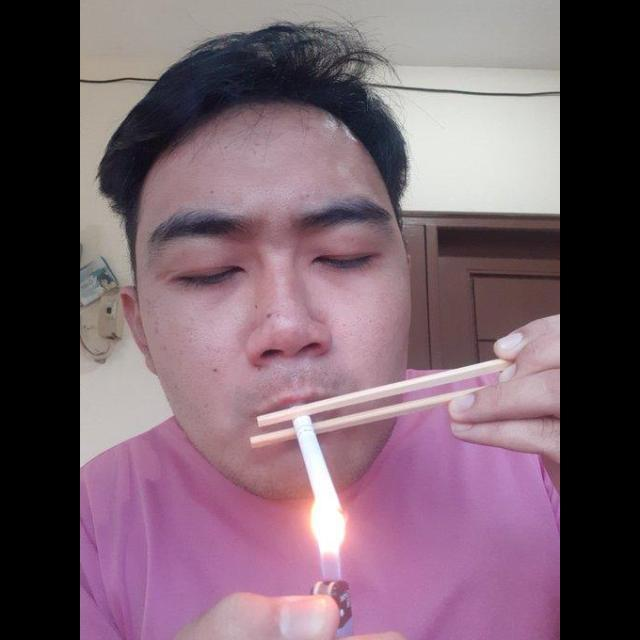rokok: (284, 402, 352, 526)
